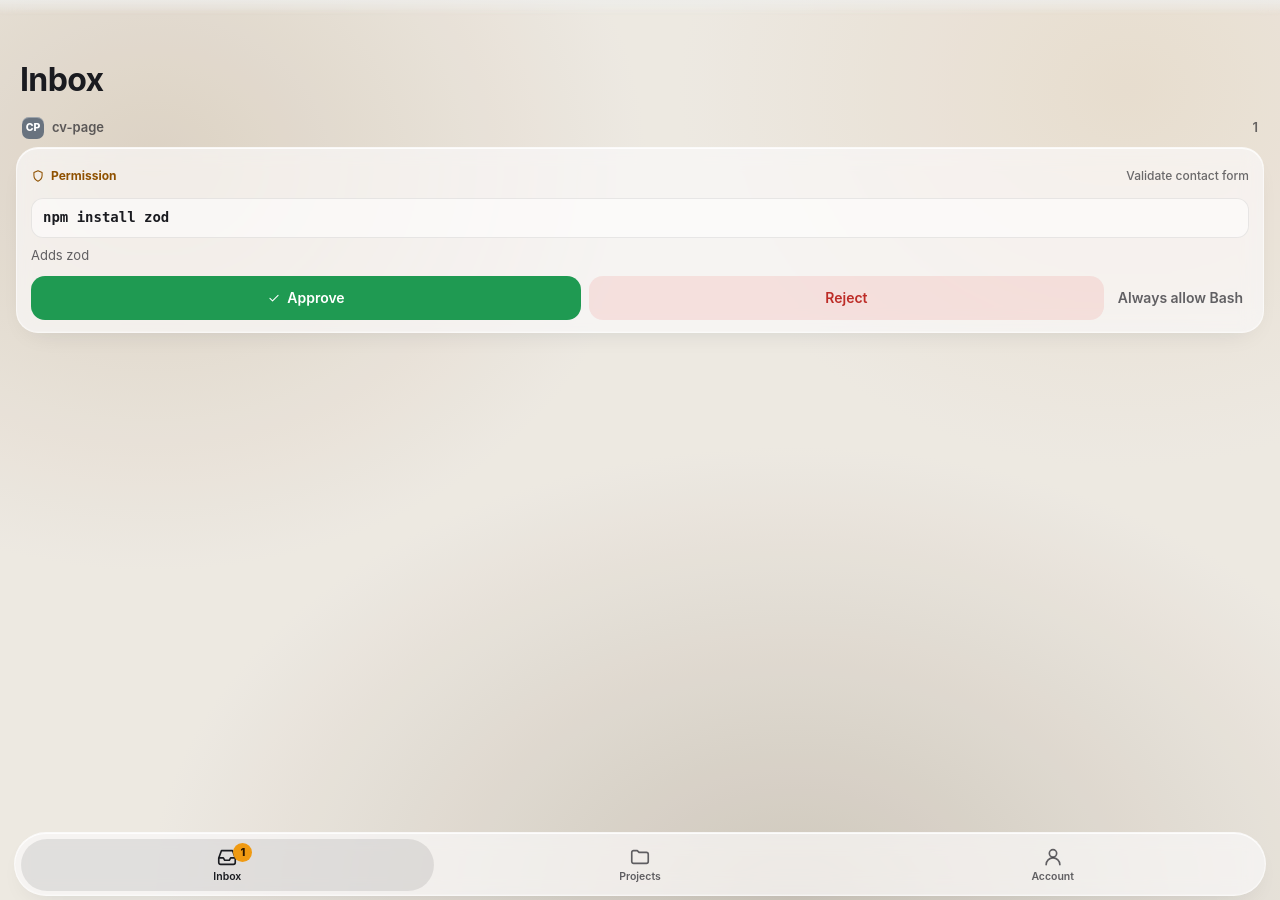
Inbox › keeps the card usable when resolving fails
Expected: the navigation bar named "Sections" is shown, [14,832,1266,896]
Step 1. Click the button "Approve" → (306, 298), box [31,276,581,320]
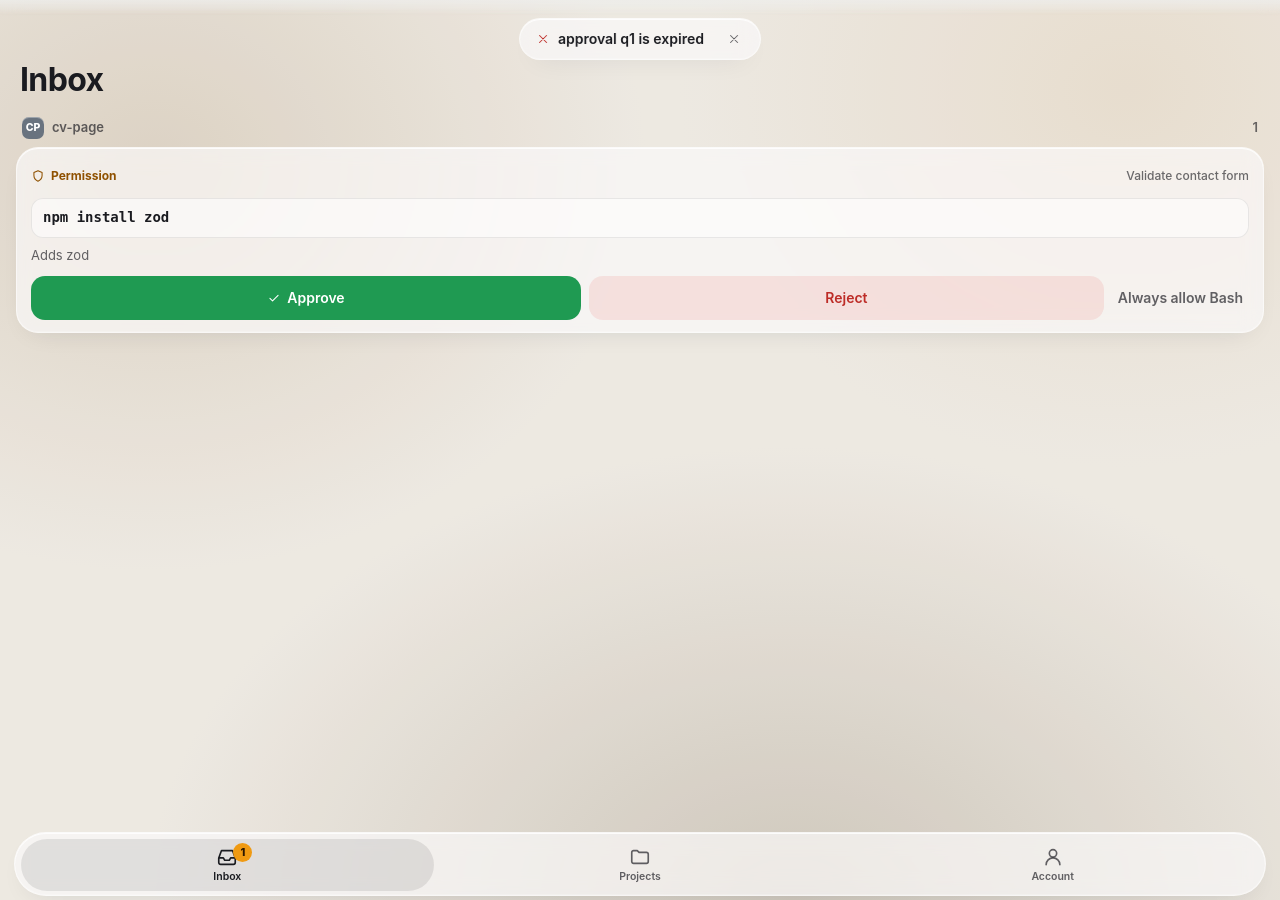
Expected: the text "approval q1 is expired" is shown, [558,30,704,48]
